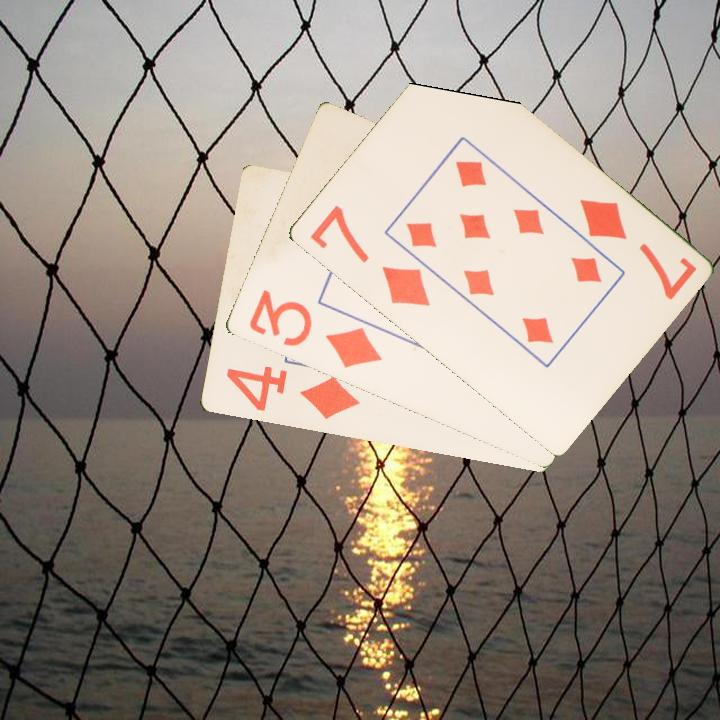3d: (245, 286, 385, 372)
4d: (222, 363, 362, 423)
7d: (305, 201, 433, 310), (575, 195, 699, 304)
